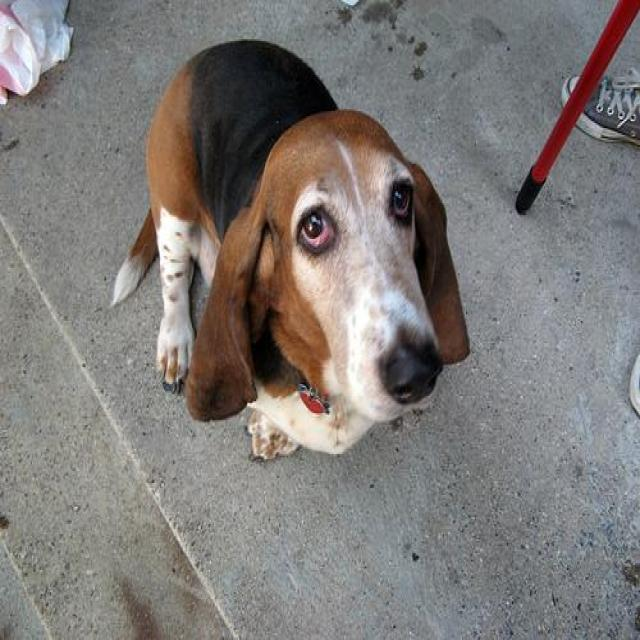basset: (106, 43, 470, 459)
